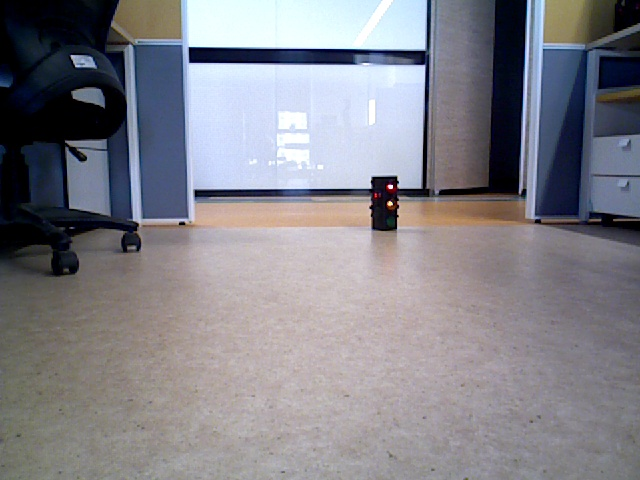red: (370, 176, 396, 227)
